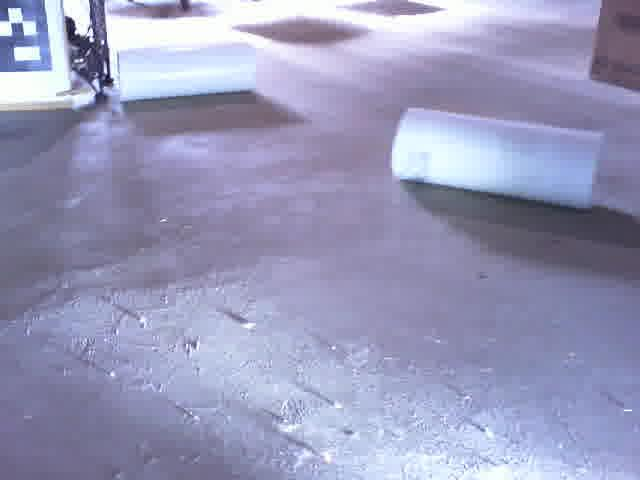coral: (392, 105, 604, 210), (118, 41, 256, 101)
